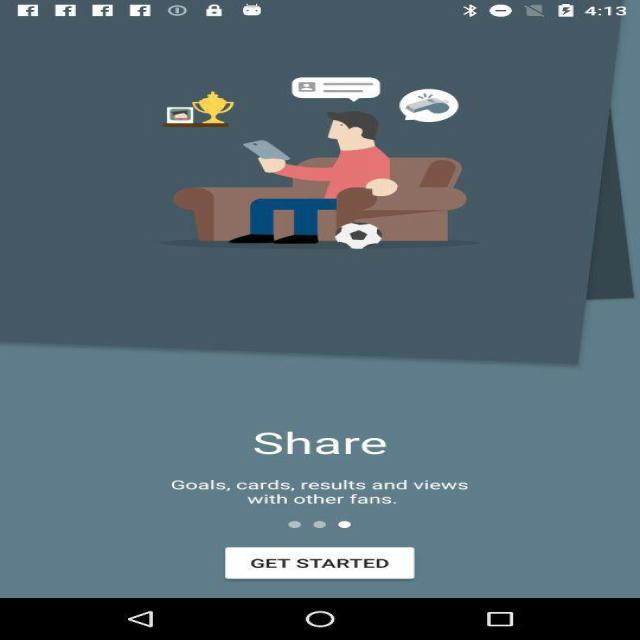button: (225, 544, 420, 580)
icon: (276, 509, 373, 535)
image: (3, 19, 640, 367)
text: (156, 471, 490, 507), (250, 421, 399, 464), (244, 552, 400, 571)
